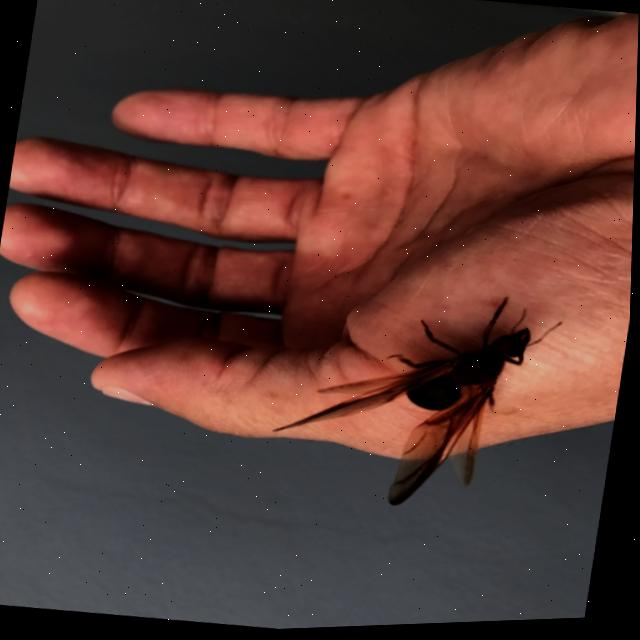Alive-Female-Alate: (264, 272, 568, 529)
